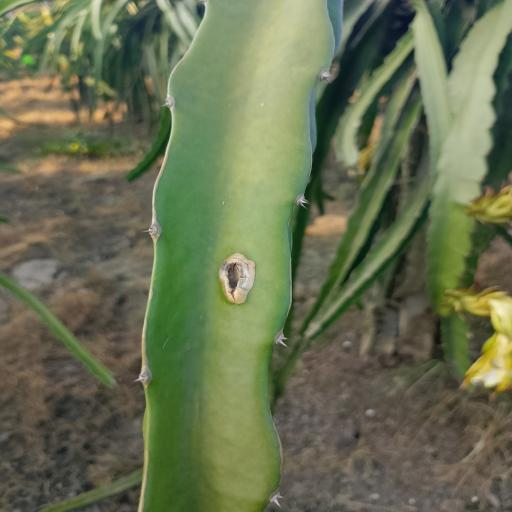stemcanker: (217, 242, 268, 315)
